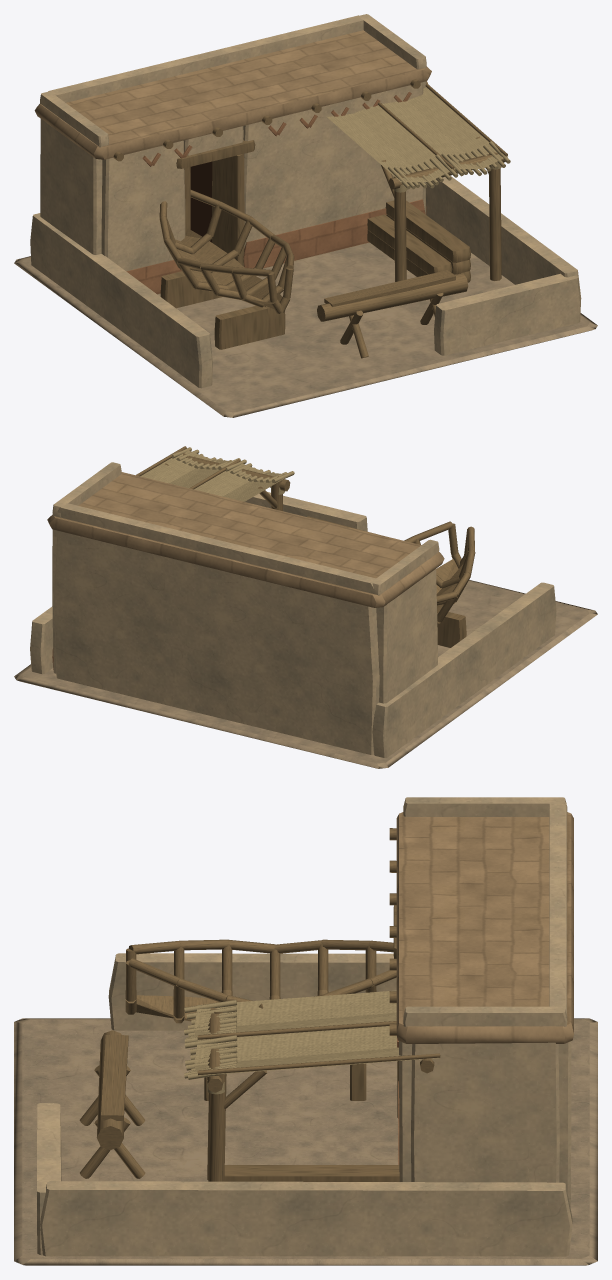
File: joineryYard.glb
The picture shows the model from 3 angles, top to bottom: view 1: azimuth 30°, elevation 25°; view 2: azimuth 150°, elevation 25°; view 3: azimuth 270°, elevation 25°; orthographic projection. The views are drawn at different scales.
Parts seen in each view (by area): view 1: original-joineryYard-warm-clay-plaster, original-joineryYard-worn-timber, original-joineryYard-alluvial-earth, original-joineryYard-game-raw-brick-facing, original-joineryYard-reed-mat, original-joineryYard-game-fired-brick-facing, original-joineryYard-game-door-shadow; view 2: original-joineryYard-warm-clay-plaster, original-joineryYard-game-raw-brick-facing, original-joineryYard-alluvial-earth, original-joineryYard-worn-timber, original-joineryYard-reed-mat; view 3: original-joineryYard-warm-clay-plaster, original-joineryYard-alluvial-earth, original-joineryYard-game-raw-brick-facing, original-joineryYard-worn-timber, original-joineryYard-reed-mat.
Part boxes in pixels (bbox=[...]): original-joineryYard-warm-clay-plaster: bbox=[30, 14, 581, 388]; original-joineryYard-worn-timber: bbox=[113, 79, 507, 358]; original-joineryYard-alluvial-earth: bbox=[14, 243, 597, 417]; original-joineryYard-game-raw-brick-facing: bbox=[34, 30, 431, 159]; original-joineryYard-reed-mat: bbox=[326, 87, 510, 192]; original-joineryYard-game-fired-brick-facing: bbox=[126, 92, 426, 294]; original-joineryYard-game-door-shadow: bbox=[190, 161, 212, 242]; original-joineryYard-warm-clay-plaster: bbox=[30, 462, 556, 757]; original-joineryYard-game-raw-brick-facing: bbox=[47, 472, 444, 607]; original-joineryYard-alluvial-earth: bbox=[14, 580, 597, 768]; original-joineryYard-worn-timber: bbox=[136, 446, 475, 647]; original-joineryYard-reed-mat: bbox=[140, 447, 294, 501]; original-joineryYard-warm-clay-plaster: bbox=[37, 797, 572, 1256]; original-joineryYard-alluvial-earth: bbox=[14, 1018, 597, 1265]; original-joineryYard-game-raw-brick-facing: bbox=[396, 812, 573, 1043]; original-joineryYard-worn-timber: bbox=[79, 828, 440, 1181]; original-joineryYard-reed-mat: bbox=[184, 990, 439, 1094].
Size of the model in its own units: 5.37 by 2.39 by 5.37.
Materials: 7 (6 with a texture image).
